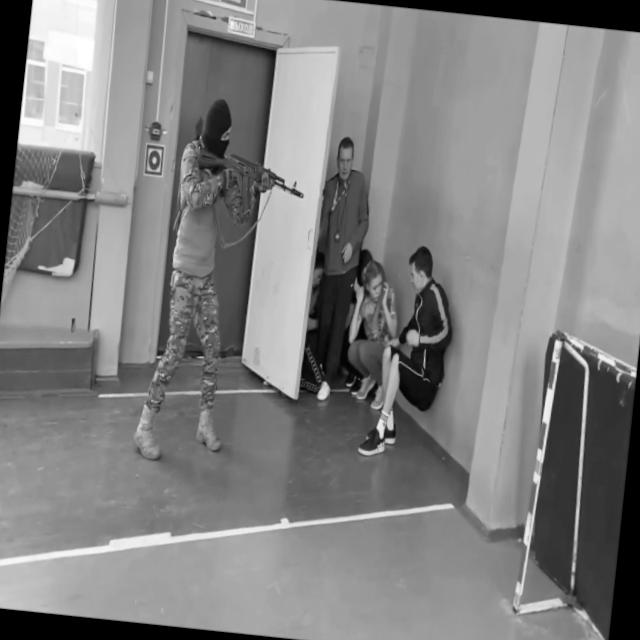gun: (190, 142, 308, 223)
person: (356, 239, 462, 466), (302, 134, 378, 403), (342, 256, 404, 410)
person with a gun: (132, 90, 314, 473)
